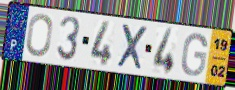3: (56, 15, 81, 63)
4: (151, 26, 176, 77), (89, 19, 114, 68)
G: (179, 32, 209, 78)
O: (24, 12, 54, 58)
X: (115, 22, 149, 73)
